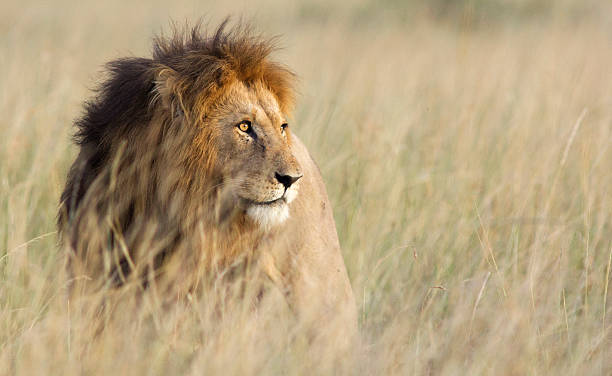lion: (30, 11, 320, 329)
